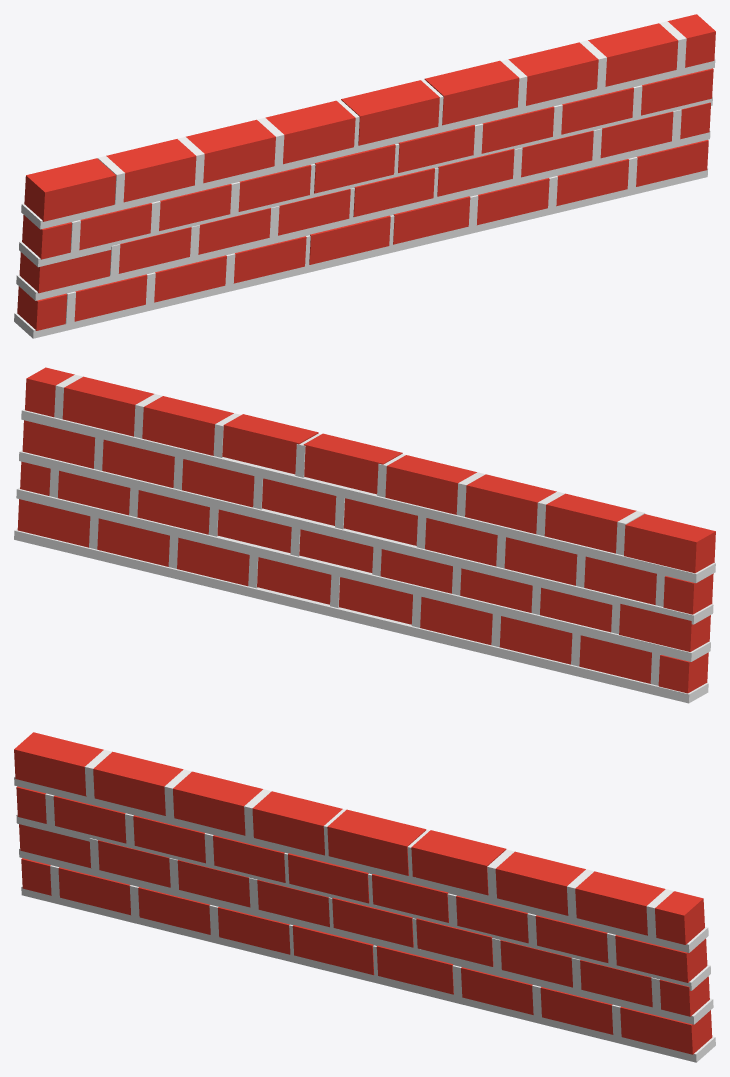
Rendered from Brick Wall Piece.glb.
3 renders of one model, top to bottom at view 1: azimuth 30°, elevation 25°; view 2: azimuth 150°, elevation 25°; view 3: azimuth 330°, elevation 25°, orthographic.
Visible parts, largest first — view 1: group1872417371; view 2: group1872417371; view 3: group1872417371.
Boxes of the visible parts, box(x1,y1,x2,y2) form: group1872417371: box(14, 14, 715, 338); group1872417371: box(14, 367, 715, 703); group1872417371: box(14, 732, 715, 1062).
Bounding box in the file's own units: 1.61 × 0.3621 × 0.1266.
